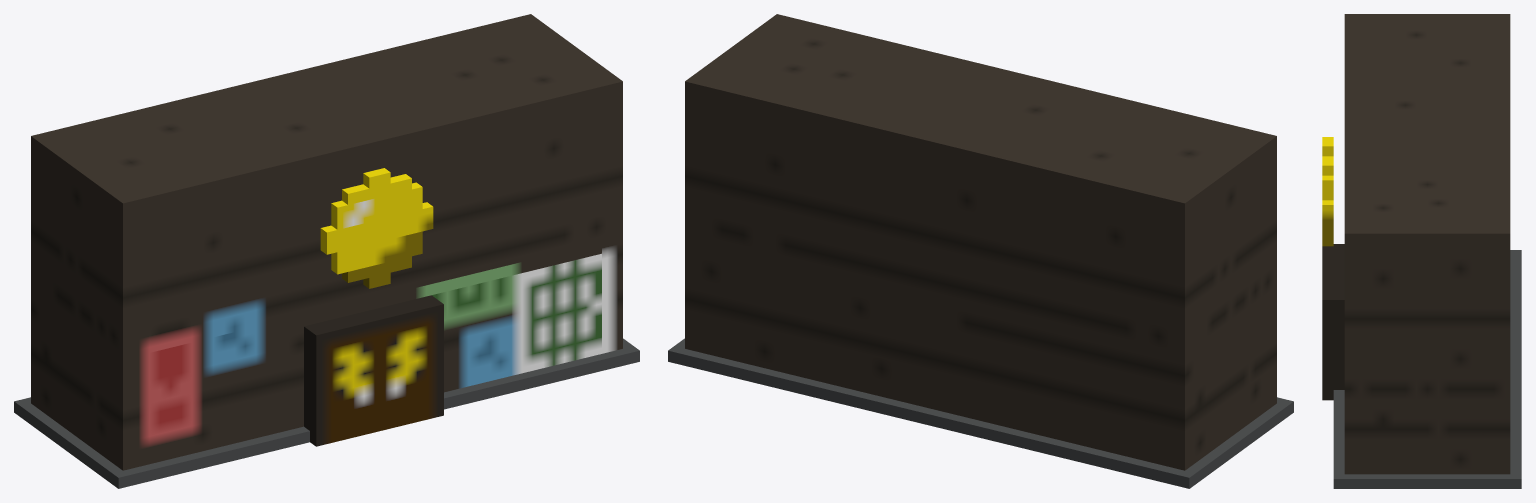
Rendered from Shop1.dae.
3 renders of one model, left to right at view 1: azimuth 30°, elevation 25°; view 2: azimuth 150°, elevation 25°; view 3: azimuth 270°, elevation 25°, orthographic. The views are drawn at different scales.
Parts seen in each view (by area): view 1: Shop1; view 2: Shop1; view 3: Shop1.
Part boxes in pixels (bbox=[...]): Shop1: bbox=[14, 14, 639, 488]; Shop1: bbox=[668, 14, 1293, 488]; Shop1: bbox=[1322, 14, 1521, 488].
Size of the model in its own units: 49 by 25 by 18.
1 material, 1 textured.
